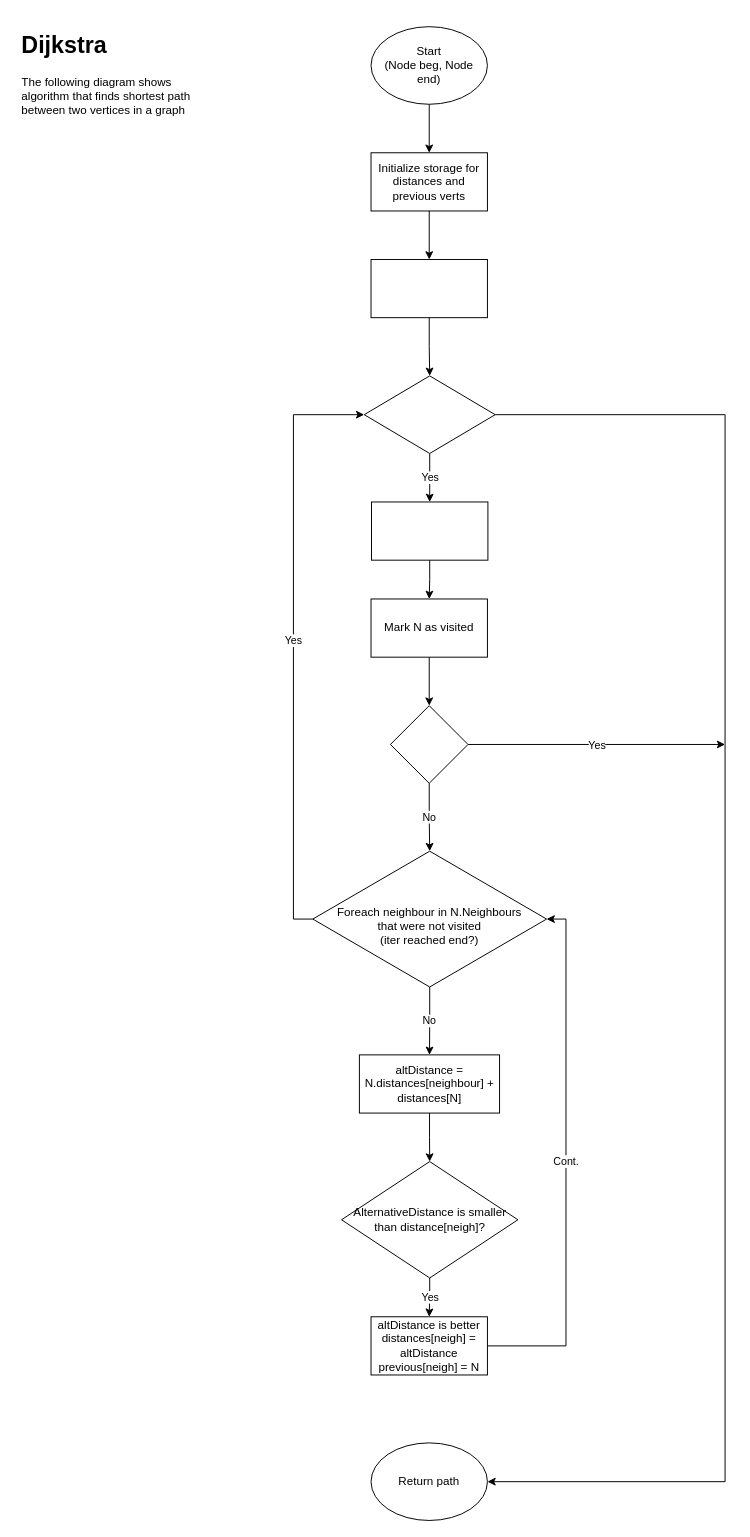
Image size: 750x1537. Some labels were removed from this diagram. Here are the shapes that lost their labels. From the top down, the centre of each, then its label:
(x=428, y=288): All distances = inf previous verts = null distance[beg] = 0
(x=429, y=414): Visited.Count > 0?
(x=429, y=530): Find minimum distance node N that was not visited
(x=428, y=744): Is N end?
